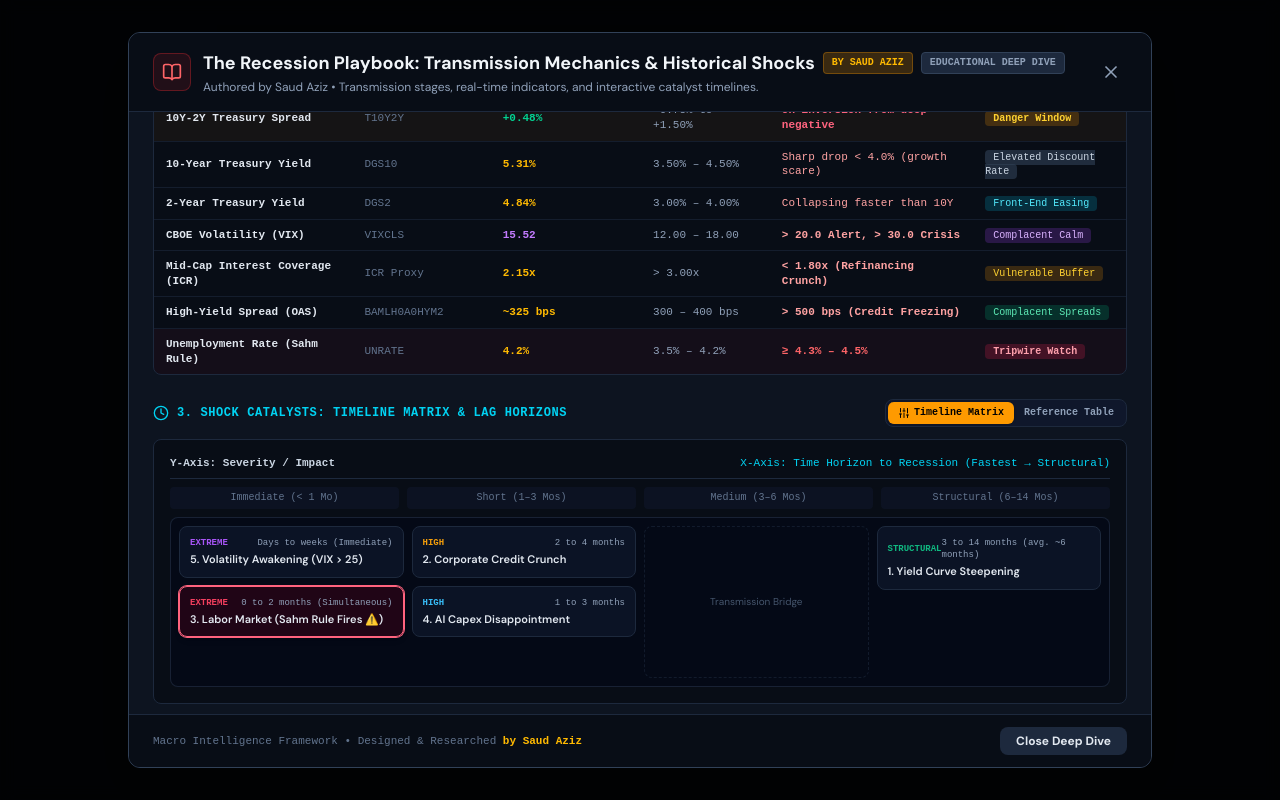
Test: MacroIntelligenceEnhancements › renders RecessionPlaybookModal with tightened stages, We Are Here indicator, and Timeline matrix
The width and height of the screenshot is (1280, 800).
(page scrolled)
expect the text "Immediate (< 1 Mo)" is shown: met, box left=170, top=487, right=399, bottom=509
Switch to Reference Table
Click the button "Reference Table".
click(1069, 413)  # box left=1014, top=402, right=1124, bottom=424
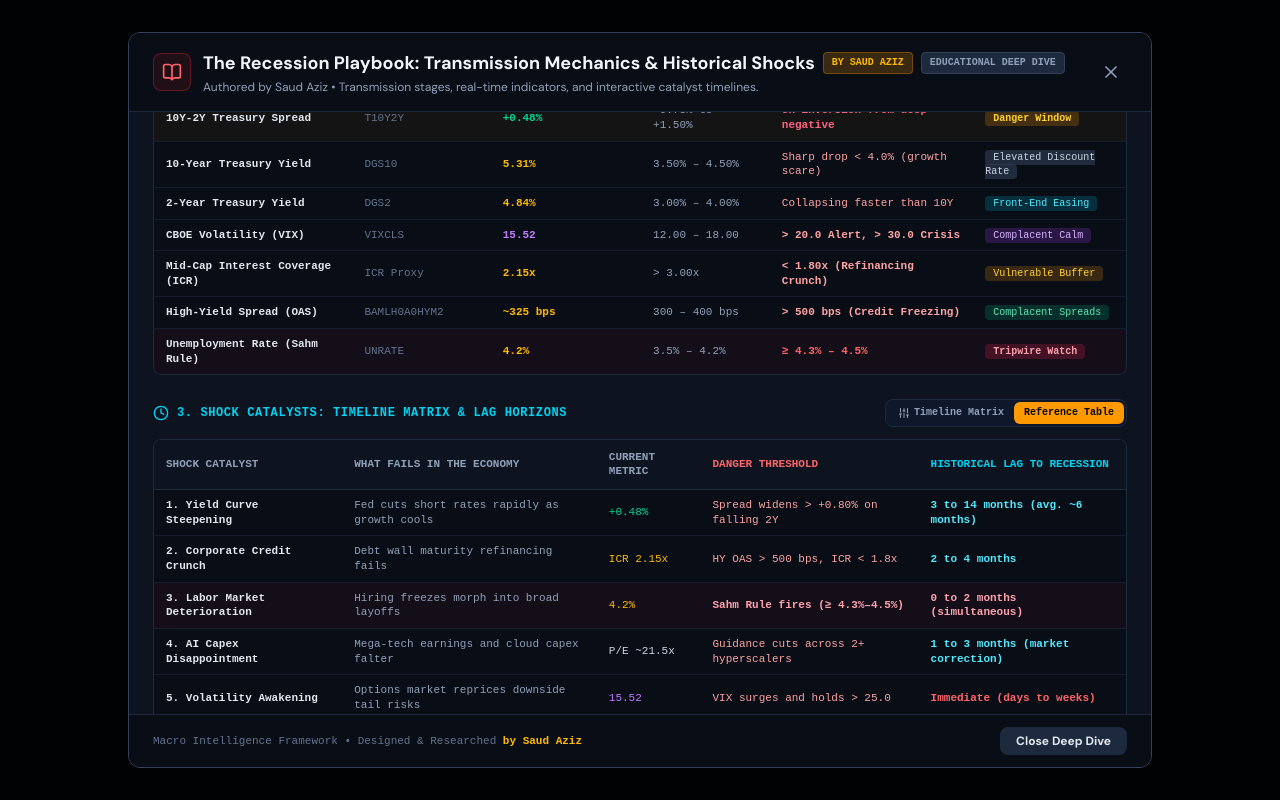
expect the column heading "Historical Lag to Recession" is shown: met, box left=919, top=440, right=1126, bottom=490
